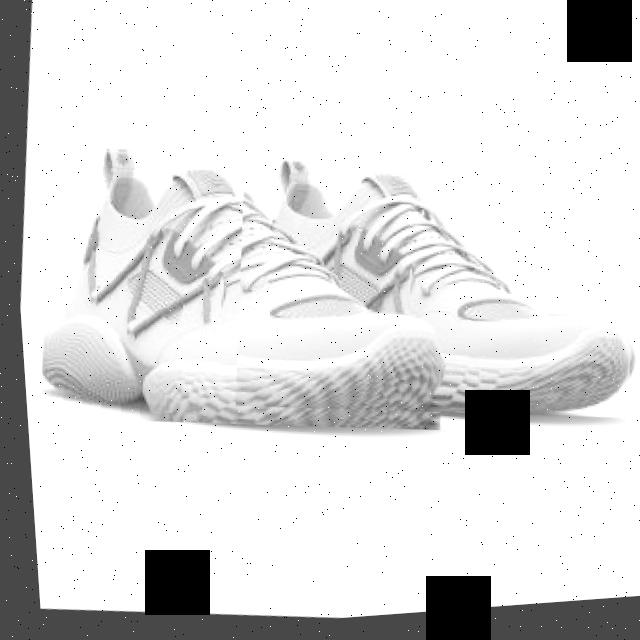shoe: (20, 122, 468, 460), (216, 135, 640, 450)
